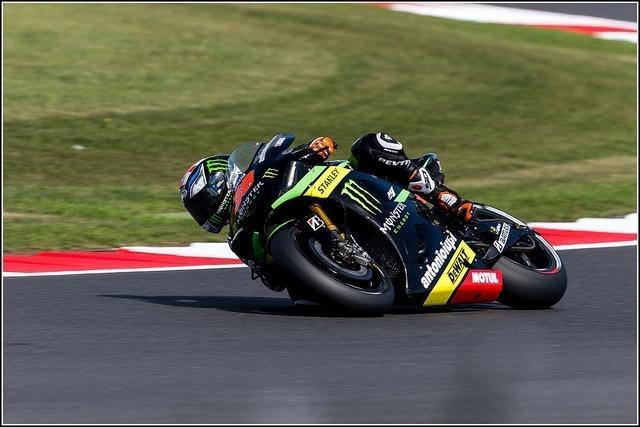motorcycle: (226, 134, 568, 318)
